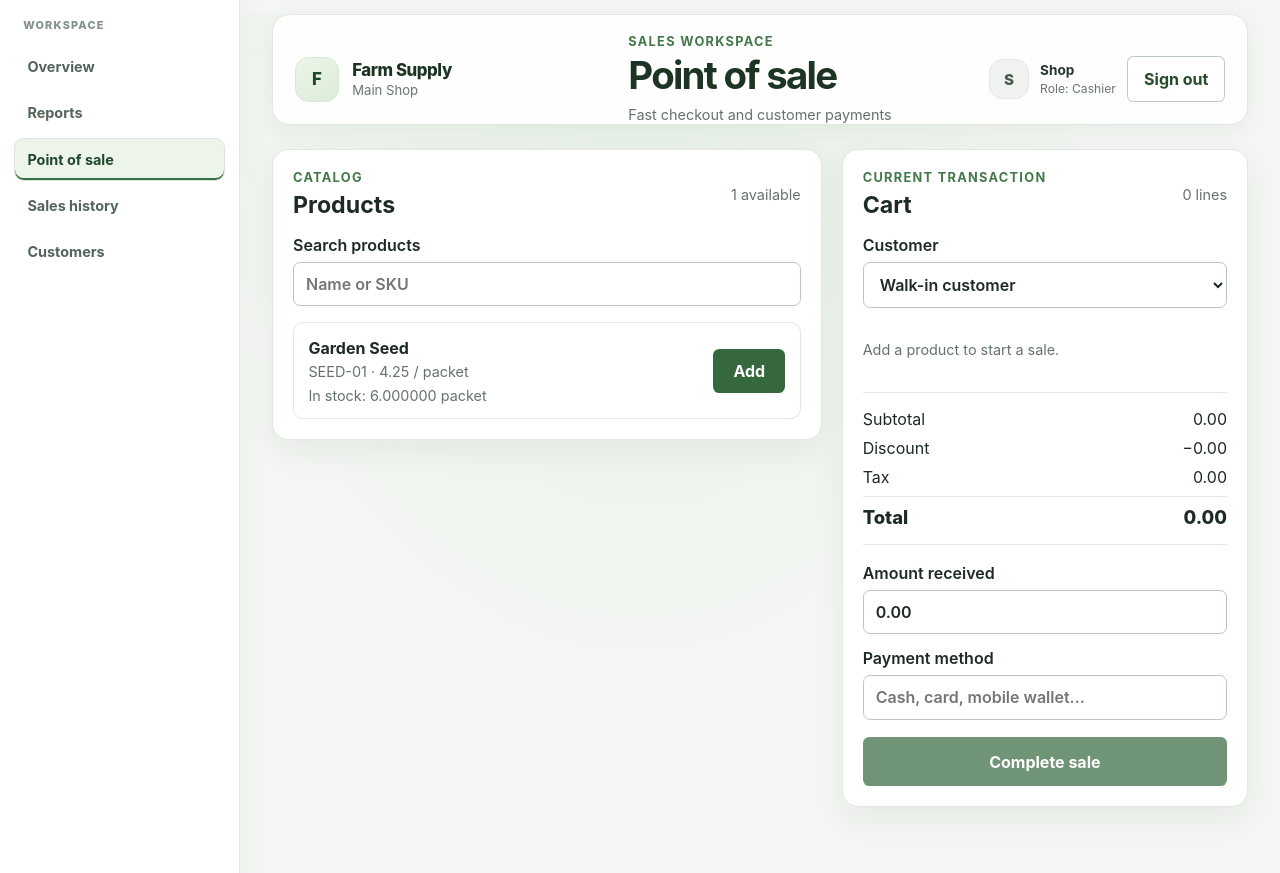
Test case: POS checkout screen › keeps a saved draft and retries checkout after a server rejection
expect the heading "Products" is shown: met, box x1=293 y1=191 x2=395 y2=219
Click the button "Add" at (749, 371), box x1=713 y1=349 x2=785 y2=393
(page scrolled)
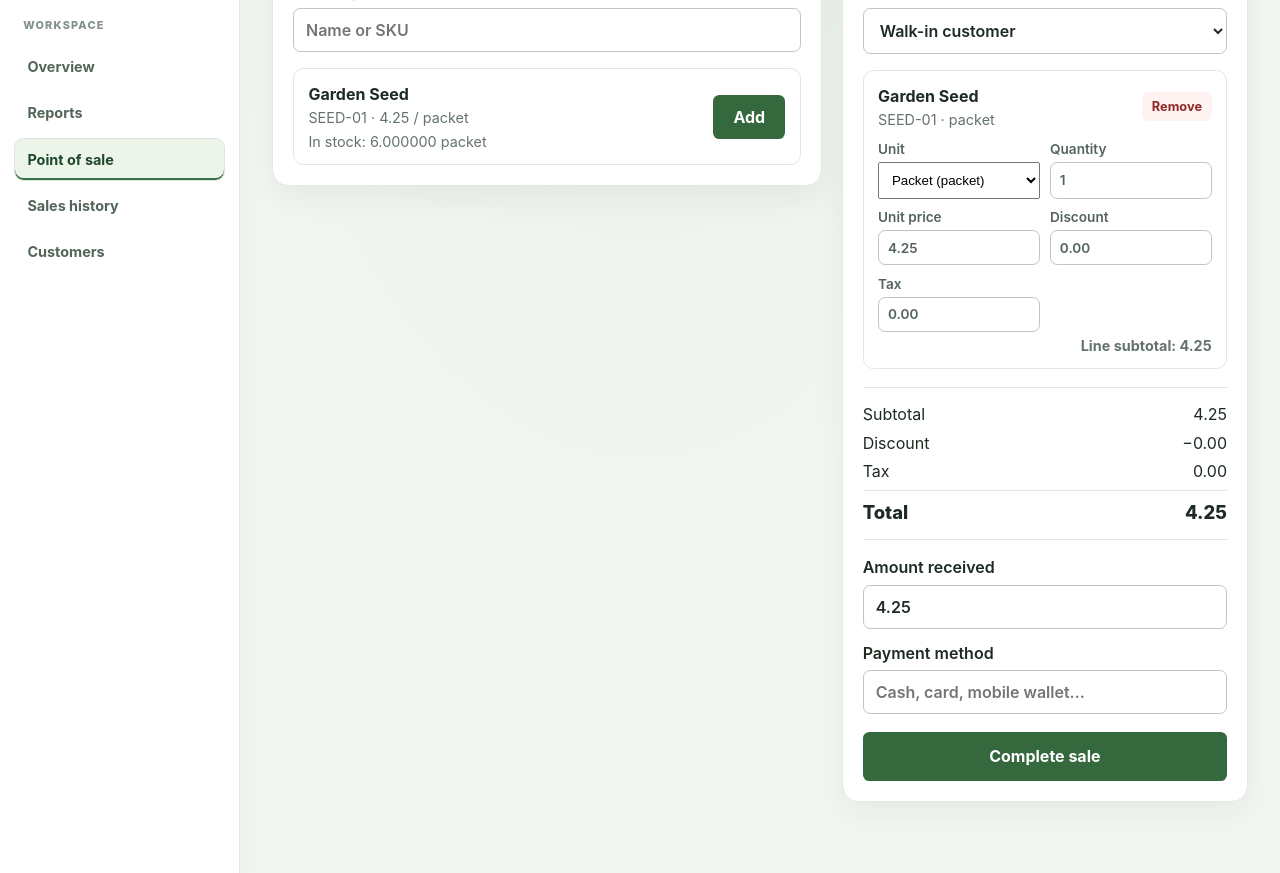
Type "Cash" into the field labelled "Payment method" at (1045, 692), box x1=863 y1=670 x2=1227 y2=714
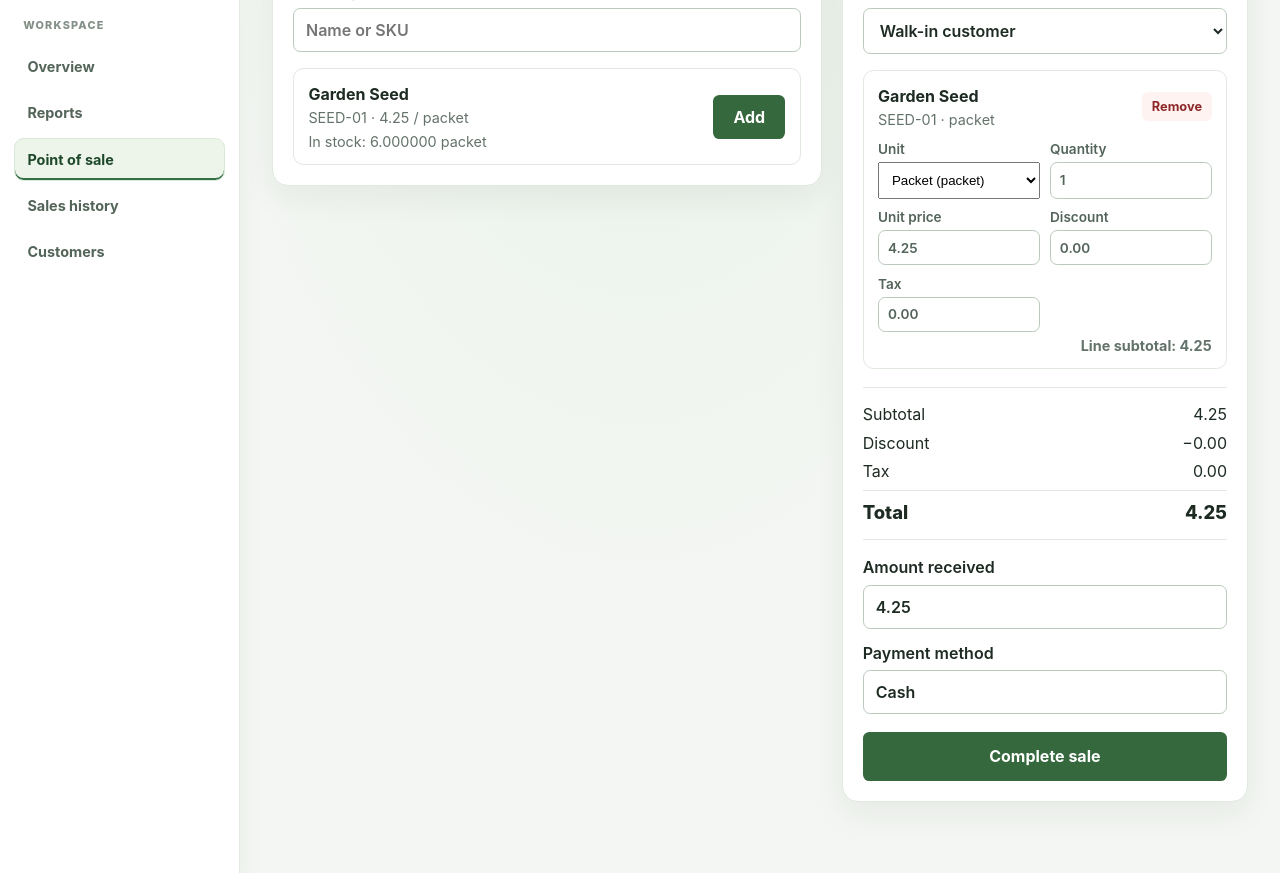
Click the button "Complete sale" at (1045, 756), box x1=863 y1=732 x2=1227 y2=781
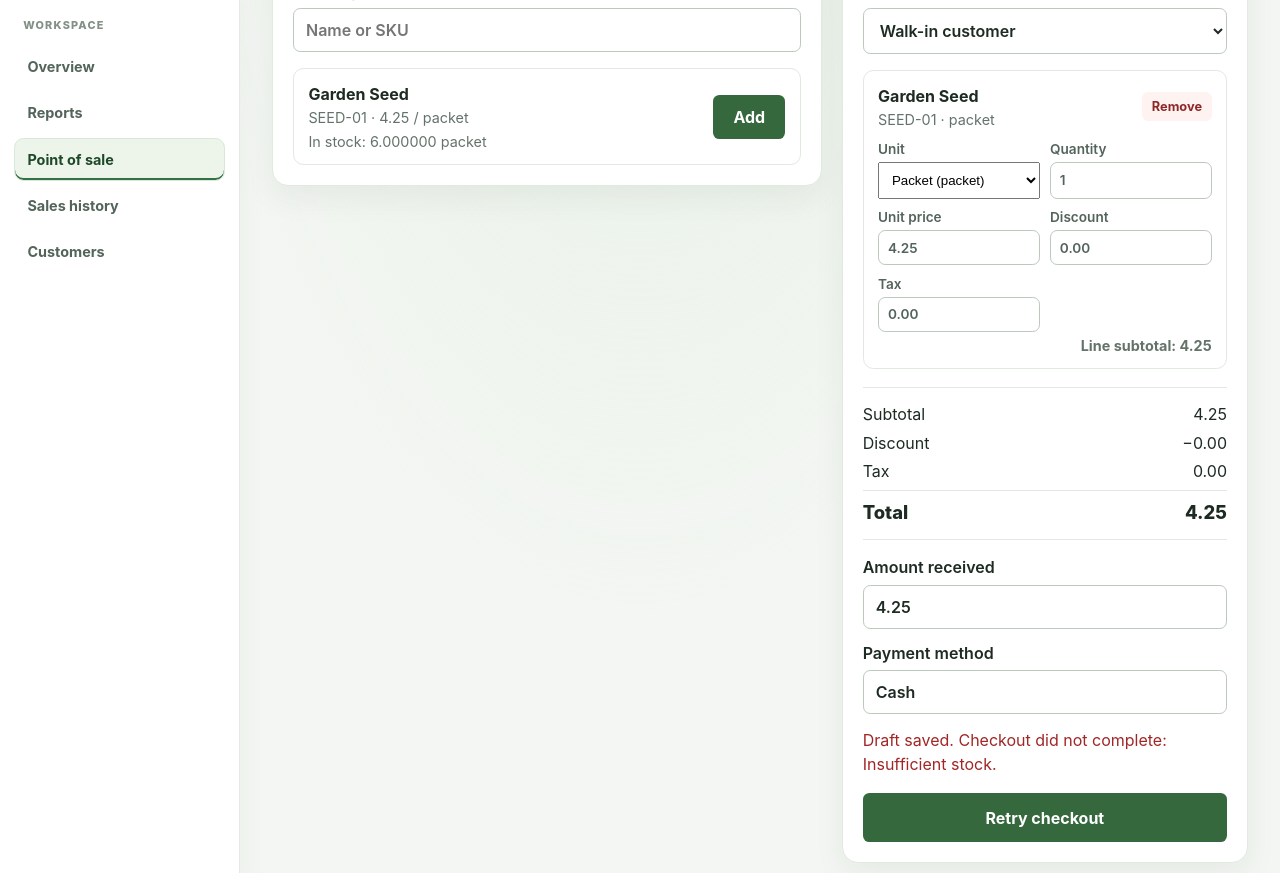
expect the text "Draft saved. Checkout did not complete: Insufficient stock." is shown: met, box x1=863 y1=730 x2=1167 y2=774
Click the button "Retry checkout" at (1045, 818), box x1=863 y1=793 x2=1227 y2=842
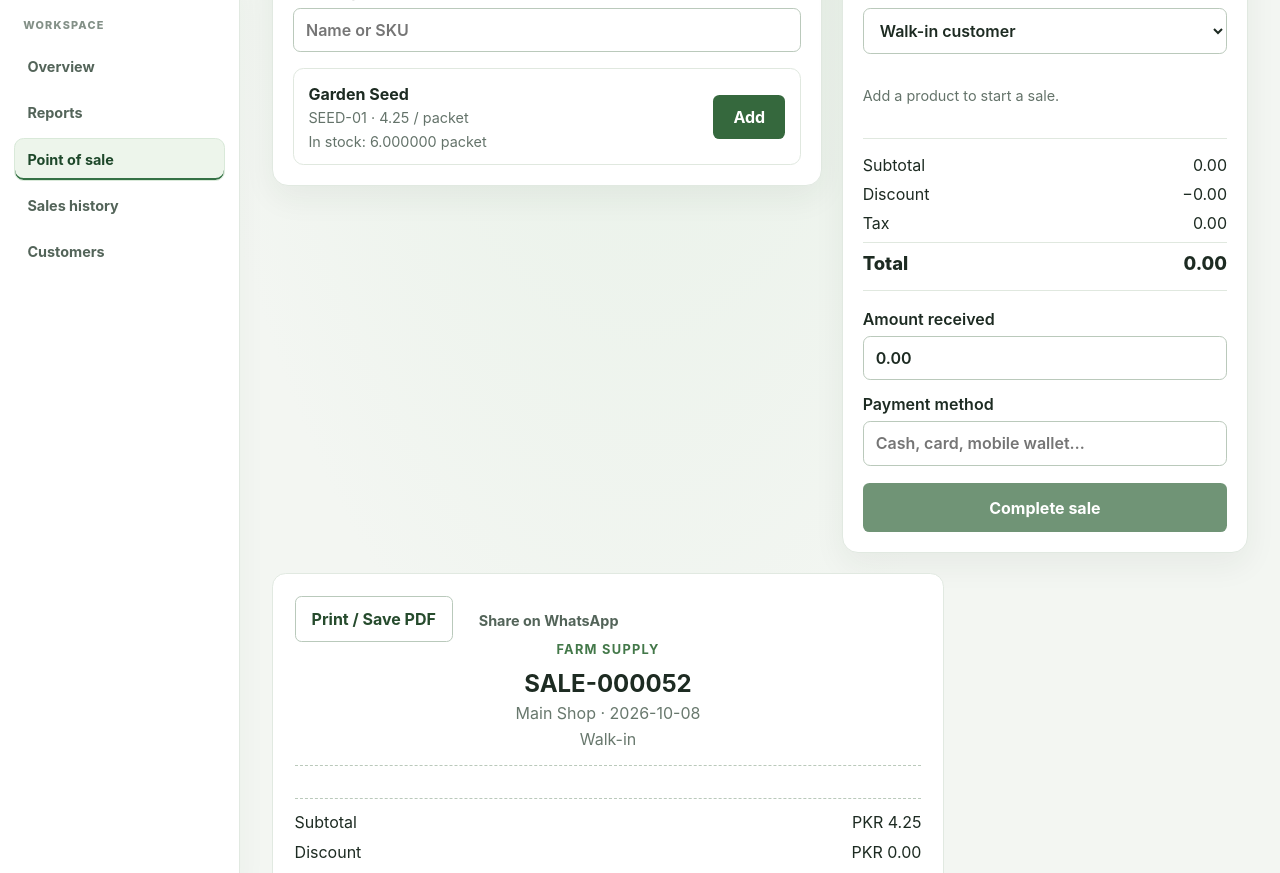
expect the heading "SALE-000052" is shown: met, box x1=524 y1=669 x2=692 y2=698
